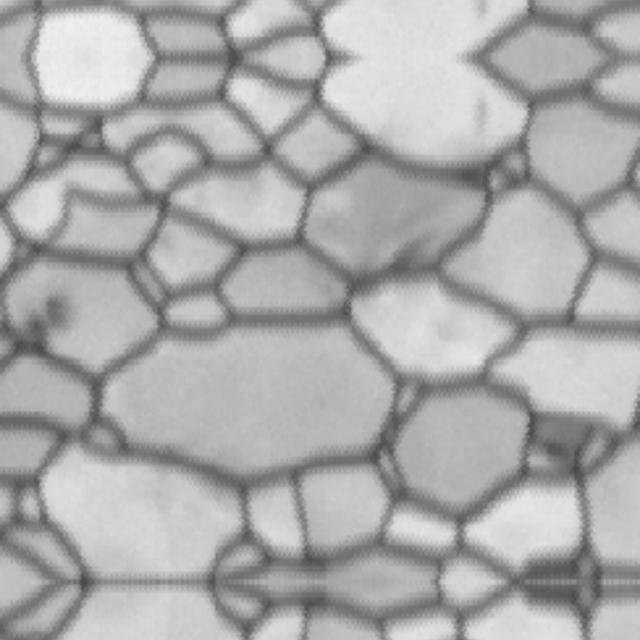good_void: (371, 229, 447, 292), (22, 286, 79, 359), (465, 89, 494, 137), (431, 307, 458, 343), (465, 0, 493, 25)
